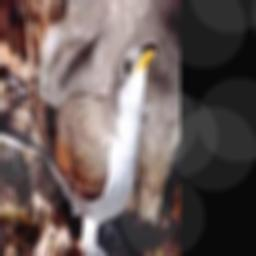Cuckoo: (0, 41, 158, 256)
